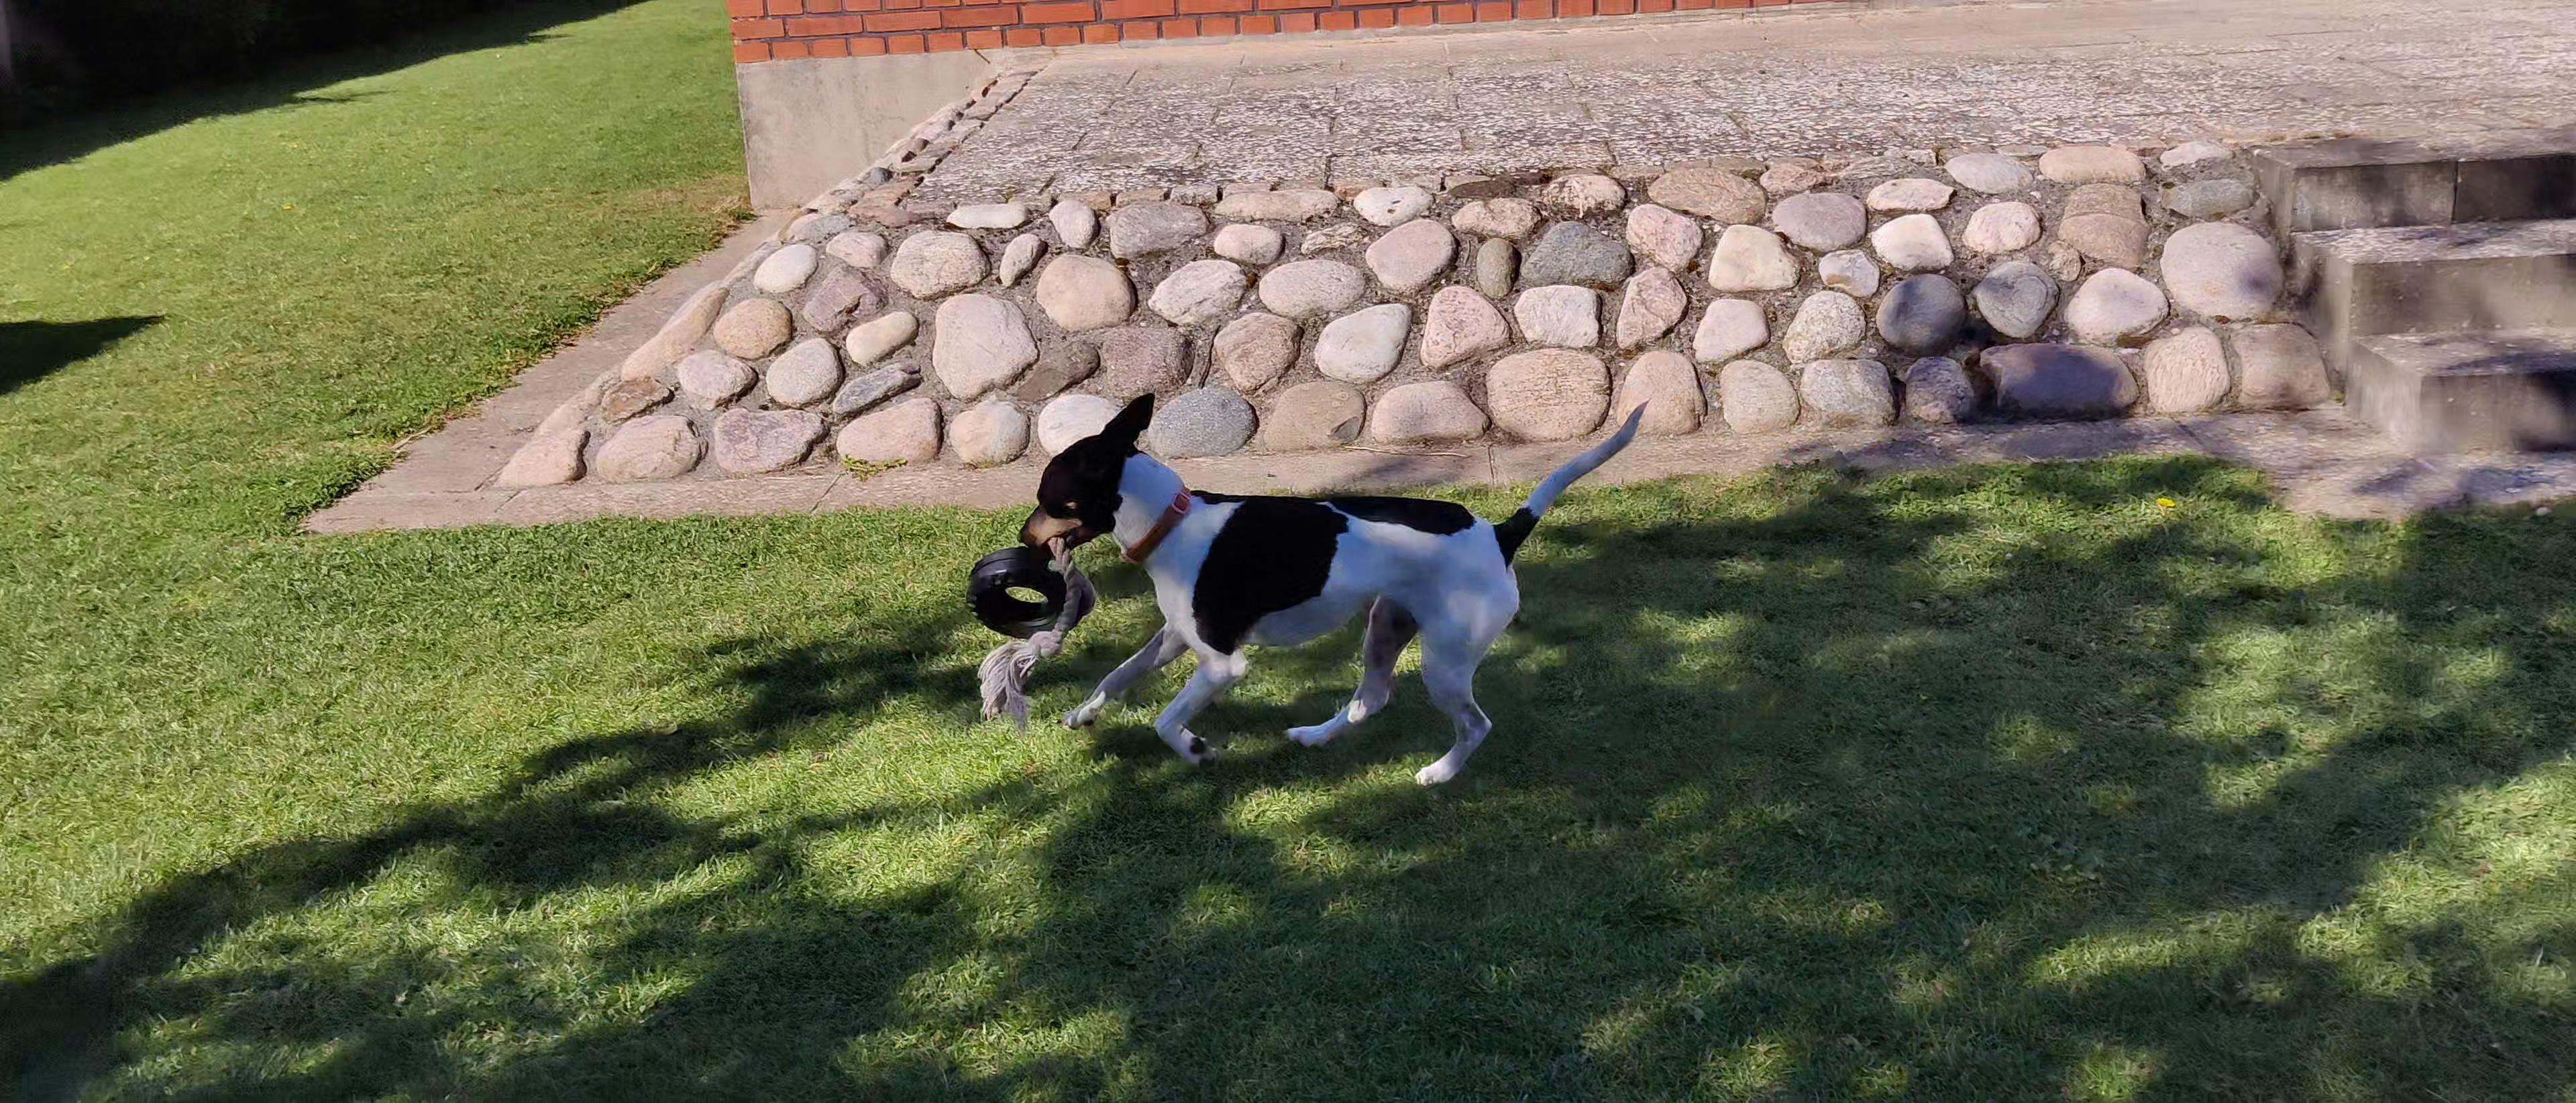Dog: (1010, 373, 1659, 807)
